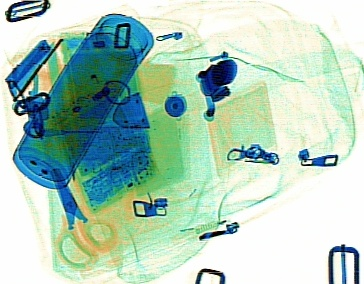scissors: (49, 167, 117, 268)
